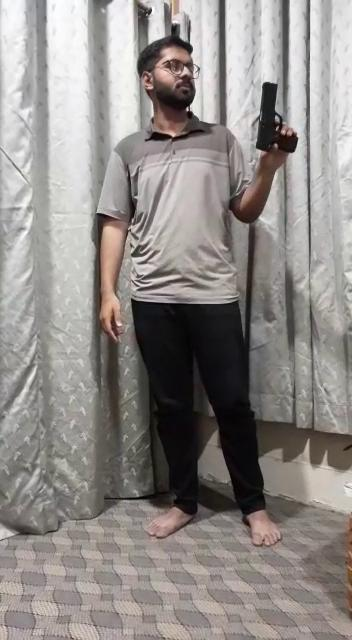criminal: (92, 36, 299, 550)
weapon: (252, 76, 299, 160)
